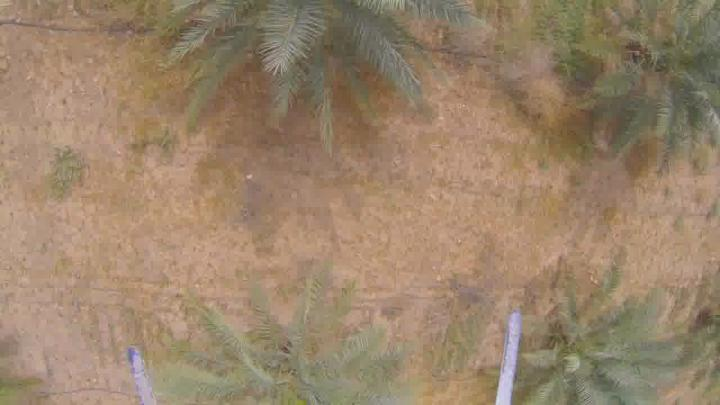Date-Palm-Crown: (195, 0, 385, 88), (200, 321, 378, 405), (520, 299, 658, 405), (611, 1, 720, 134)
